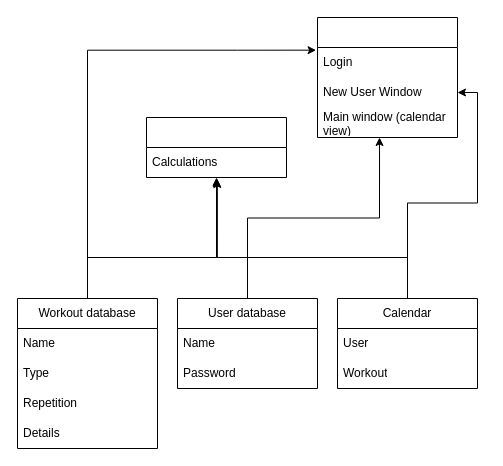
The diagram is 503 pixels wide and 466 high, and some of its shapes have lost their labels. Here are the shapes that lost their labels. From the top down, the box of each, then its label:
(316, 16, 458, 138): UI
(146, 116, 286, 178): Workout service
